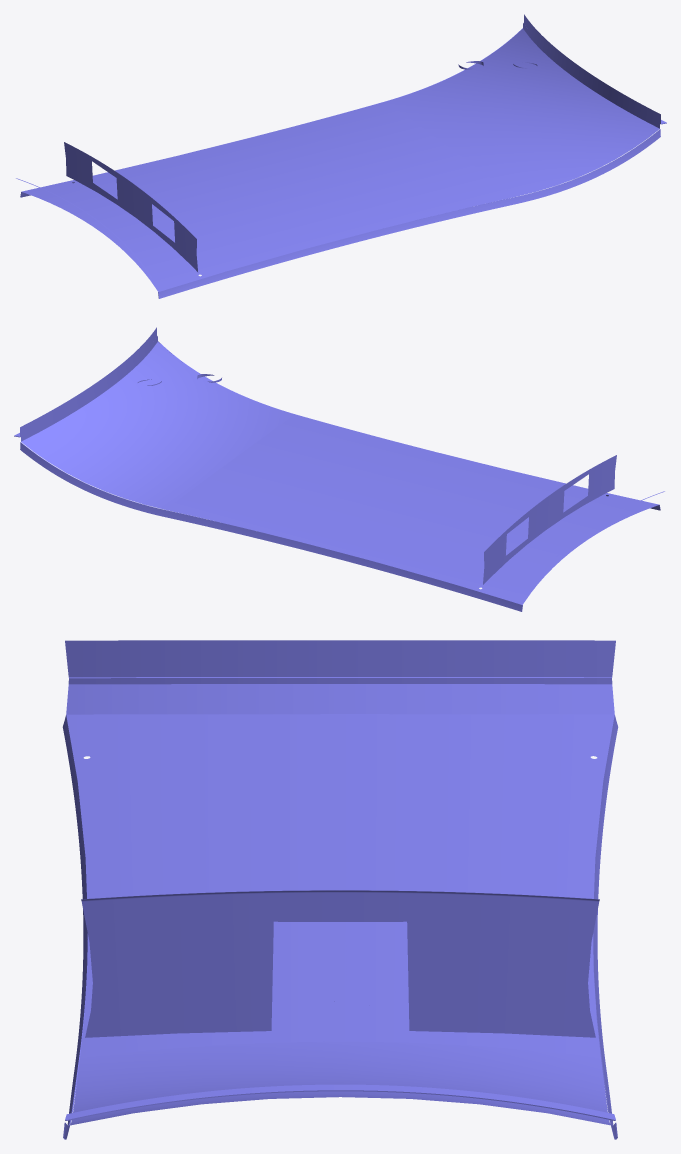
Rendered from HULLS, INTERNALS, ETC.__CTR BEAM FROM EXIST. PART MSMTS__ctr beam outside surfaces.glb.
3 views of the same model, one above another, from view 1: azimuth 30°, elevation 25°; view 2: azimuth 150°, elevation 25°; view 3: azimuth 270°, elevation 25° (orthographic). The views are drawn at different scales.
Parts seen in each view (by area): view 1: ctr beam outside surfaces, lower; view 2: ctr beam outside surfaces, lower; view 3: ctr beam outside surfaces, lower (×2).
Boxes of the visible parts, x1=… form: ctr beam outside surfaces: x1=16, y1=14, x2=666, y2=291; lower: x1=158, y1=129, x2=660, y2=298; ctr beam outside surfaces: x1=14, y1=327, x2=664, y2=604; lower: x1=20, y1=442, x2=522, y2=611; ctr beam outside surfaces: x1=65, y1=640, x2=615, y2=1125; lower (×2): x1=62, y1=715, x2=618, y2=1139.
Size of the model in its own units: 6.72 by 1.18 by 3.14.
